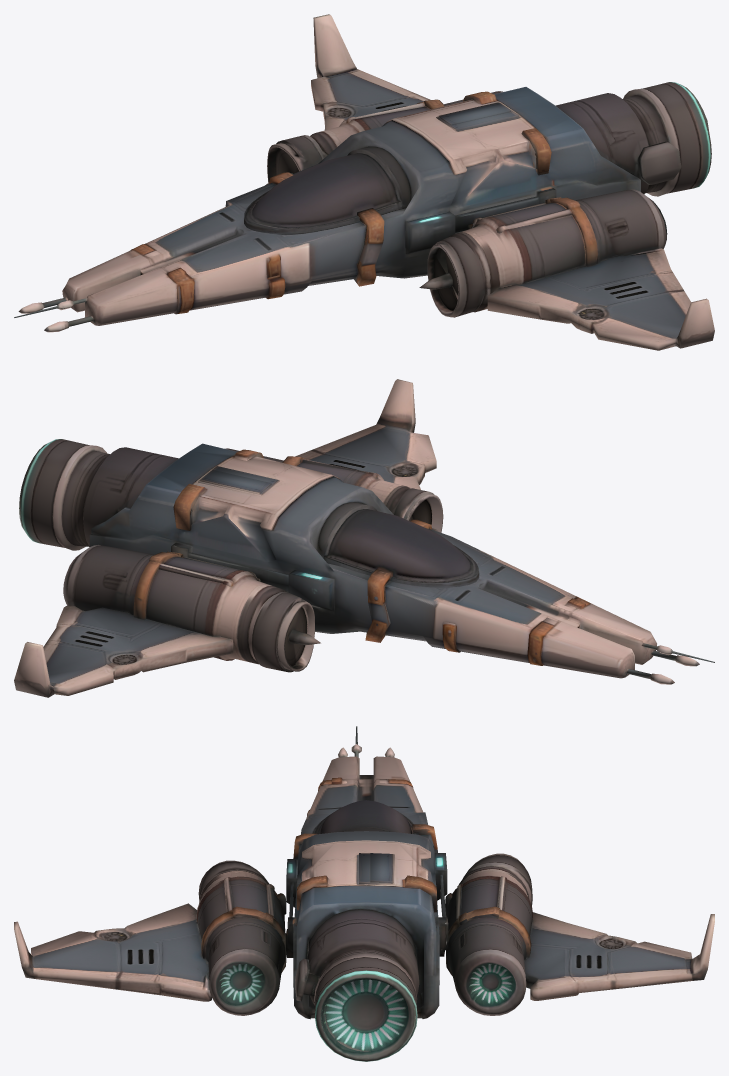
Rendered from spacecraft_tripo_p2-1.glb.
3 renders of one model, top to bottom at view 1: azimuth 30°, elevation 25°; view 2: azimuth 150°, elevation 25°; view 3: azimuth 270°, elevation 25°, orthographic. The views are drawn at different scales.
Visible parts, largest first — view 1: tripo_node_5254a40f-3329-4836-95d7-6efb5474bf2b; view 2: tripo_node_5254a40f-3329-4836-95d7-6efb5474bf2b; view 3: tripo_node_5254a40f-3329-4836-95d7-6efb5474bf2b.
Part boxes in pixels (<box>): tripo_node_5254a40f-3329-4836-95d7-6efb5474bf2b: <box>14,14,714,350</box>; tripo_node_5254a40f-3329-4836-95d7-6efb5474bf2b: <box>14,379,714,697</box>; tripo_node_5254a40f-3329-4836-95d7-6efb5474bf2b: <box>14,726,714,1061</box>.
Bounding box in the file's own units: 0.9995 × 0.1753 × 0.9692.
1 material, 1 textured.
